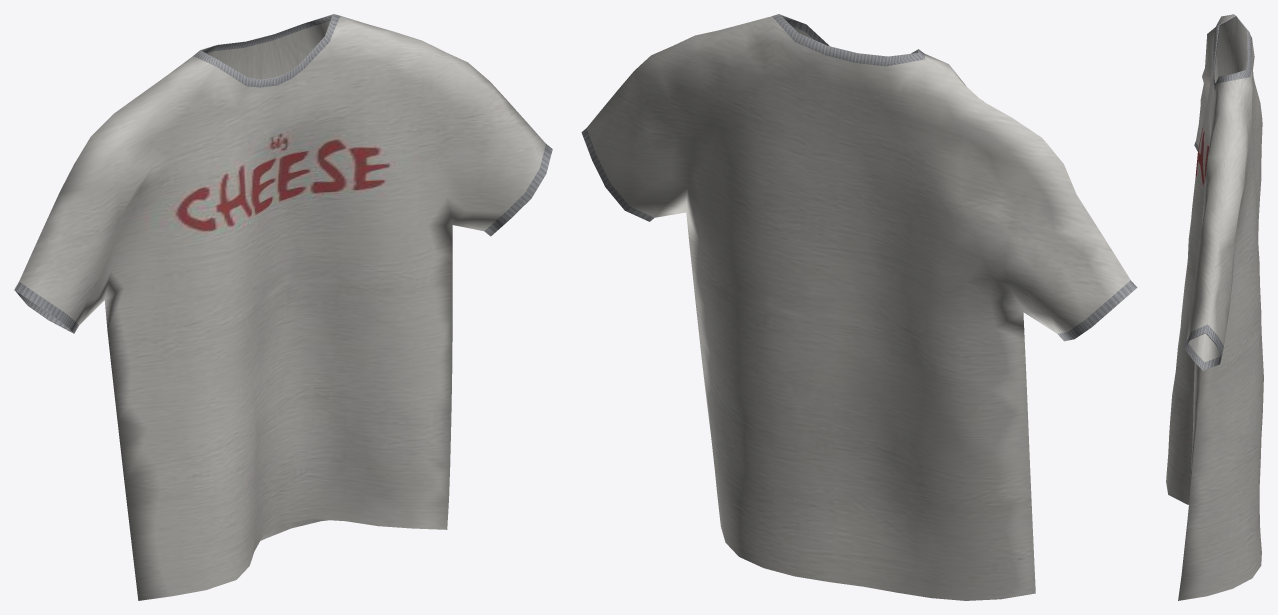
Rendered from shirt.glb.
The picture shows the model from 3 angles, left to right: view 1: azimuth 30°, elevation 25°; view 2: azimuth 150°, elevation 25°; view 3: azimuth 270°, elevation 25°; orthographic projection. The views are drawn at different scales.
Parts seen in each view (by area): view 1: ShirtOnHanger_Shirt_0; view 2: ShirtOnHanger_Shirt_0; view 3: ShirtOnHanger_Shirt_0.
Part boxes in pixels (x1,y1,x2,y2): ShirtOnHanger_Shirt_0: (14,14,552,600); ShirtOnHanger_Shirt_0: (581,14,1137,600); ShirtOnHanger_Shirt_0: (1166,14,1263,600).
Bounding box in the file's own units: 0.6419 × 0.5973 × 0.1073.
1 material, 1 textured.
